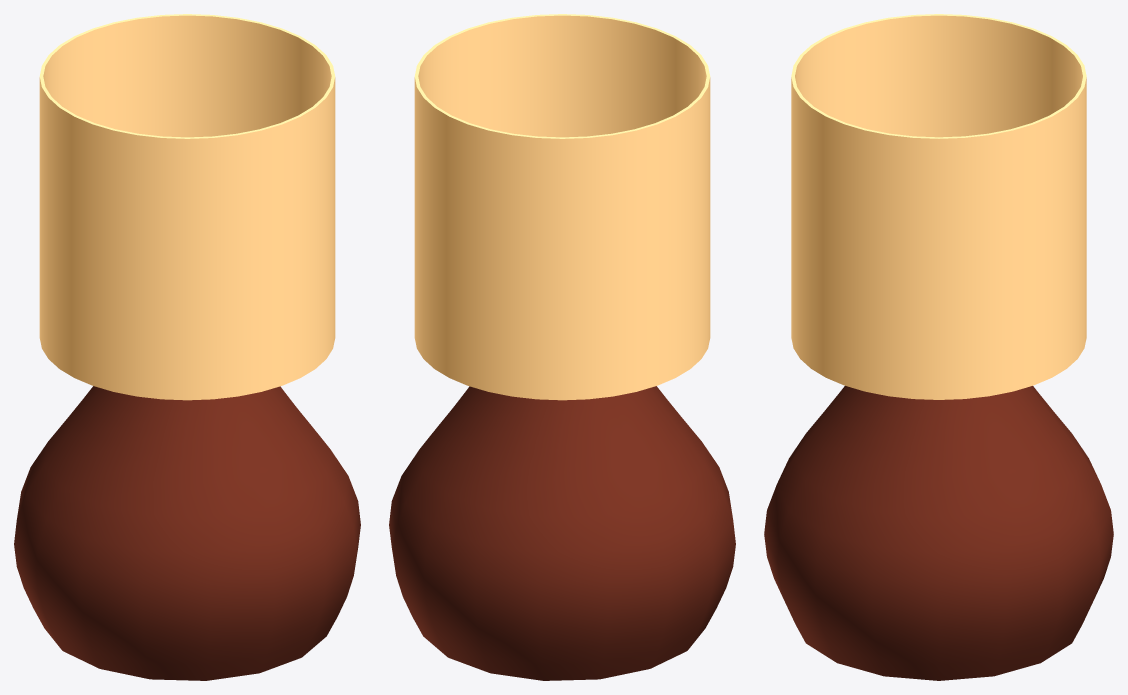
File: Table_Lamp_PearBase_RoundShade.fbx
The picture shows the model from 3 angles, left to right: view 1: azimuth 30°, elevation 25°; view 2: azimuth 150°, elevation 25°; view 3: azimuth 270°, elevation 25°; orthographic projection.
Visible parts, largest first — view 1: Table_Lamp_PearBase_RoundShade; view 2: Table_Lamp_PearBase_RoundShade; view 3: Table_Lamp_PearBase_RoundShade.
Boxes of the visible parts, box(x1,y1,x2,y2) form: Table_Lamp_PearBase_RoundShade: box(14, 14, 360, 680); Table_Lamp_PearBase_RoundShade: box(389, 14, 735, 680); Table_Lamp_PearBase_RoundShade: box(764, 14, 1113, 680).
Size of the model in its own units: 36.4 by 62.44 by 36.4.
